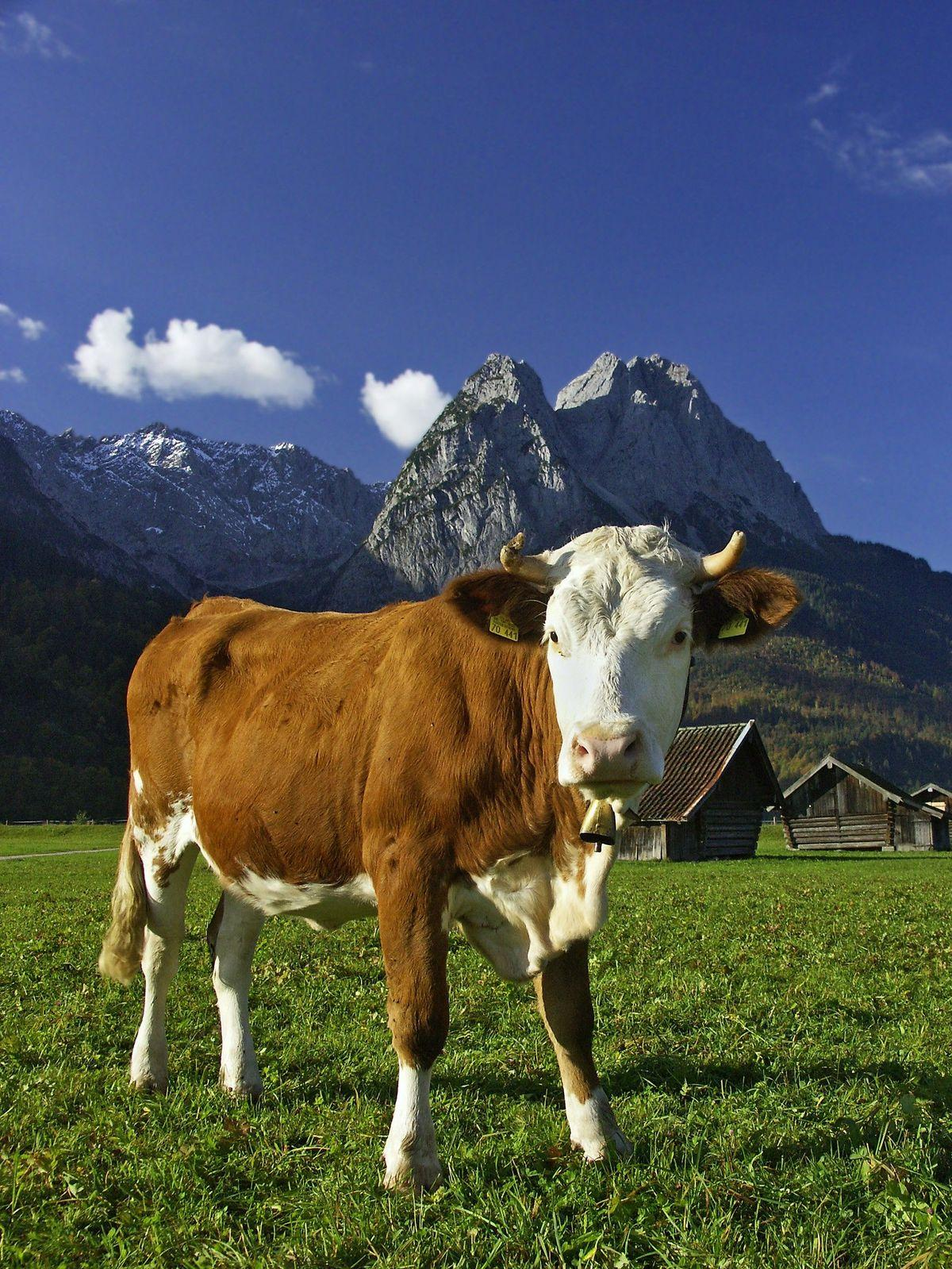cow: (100, 526, 800, 1189)
